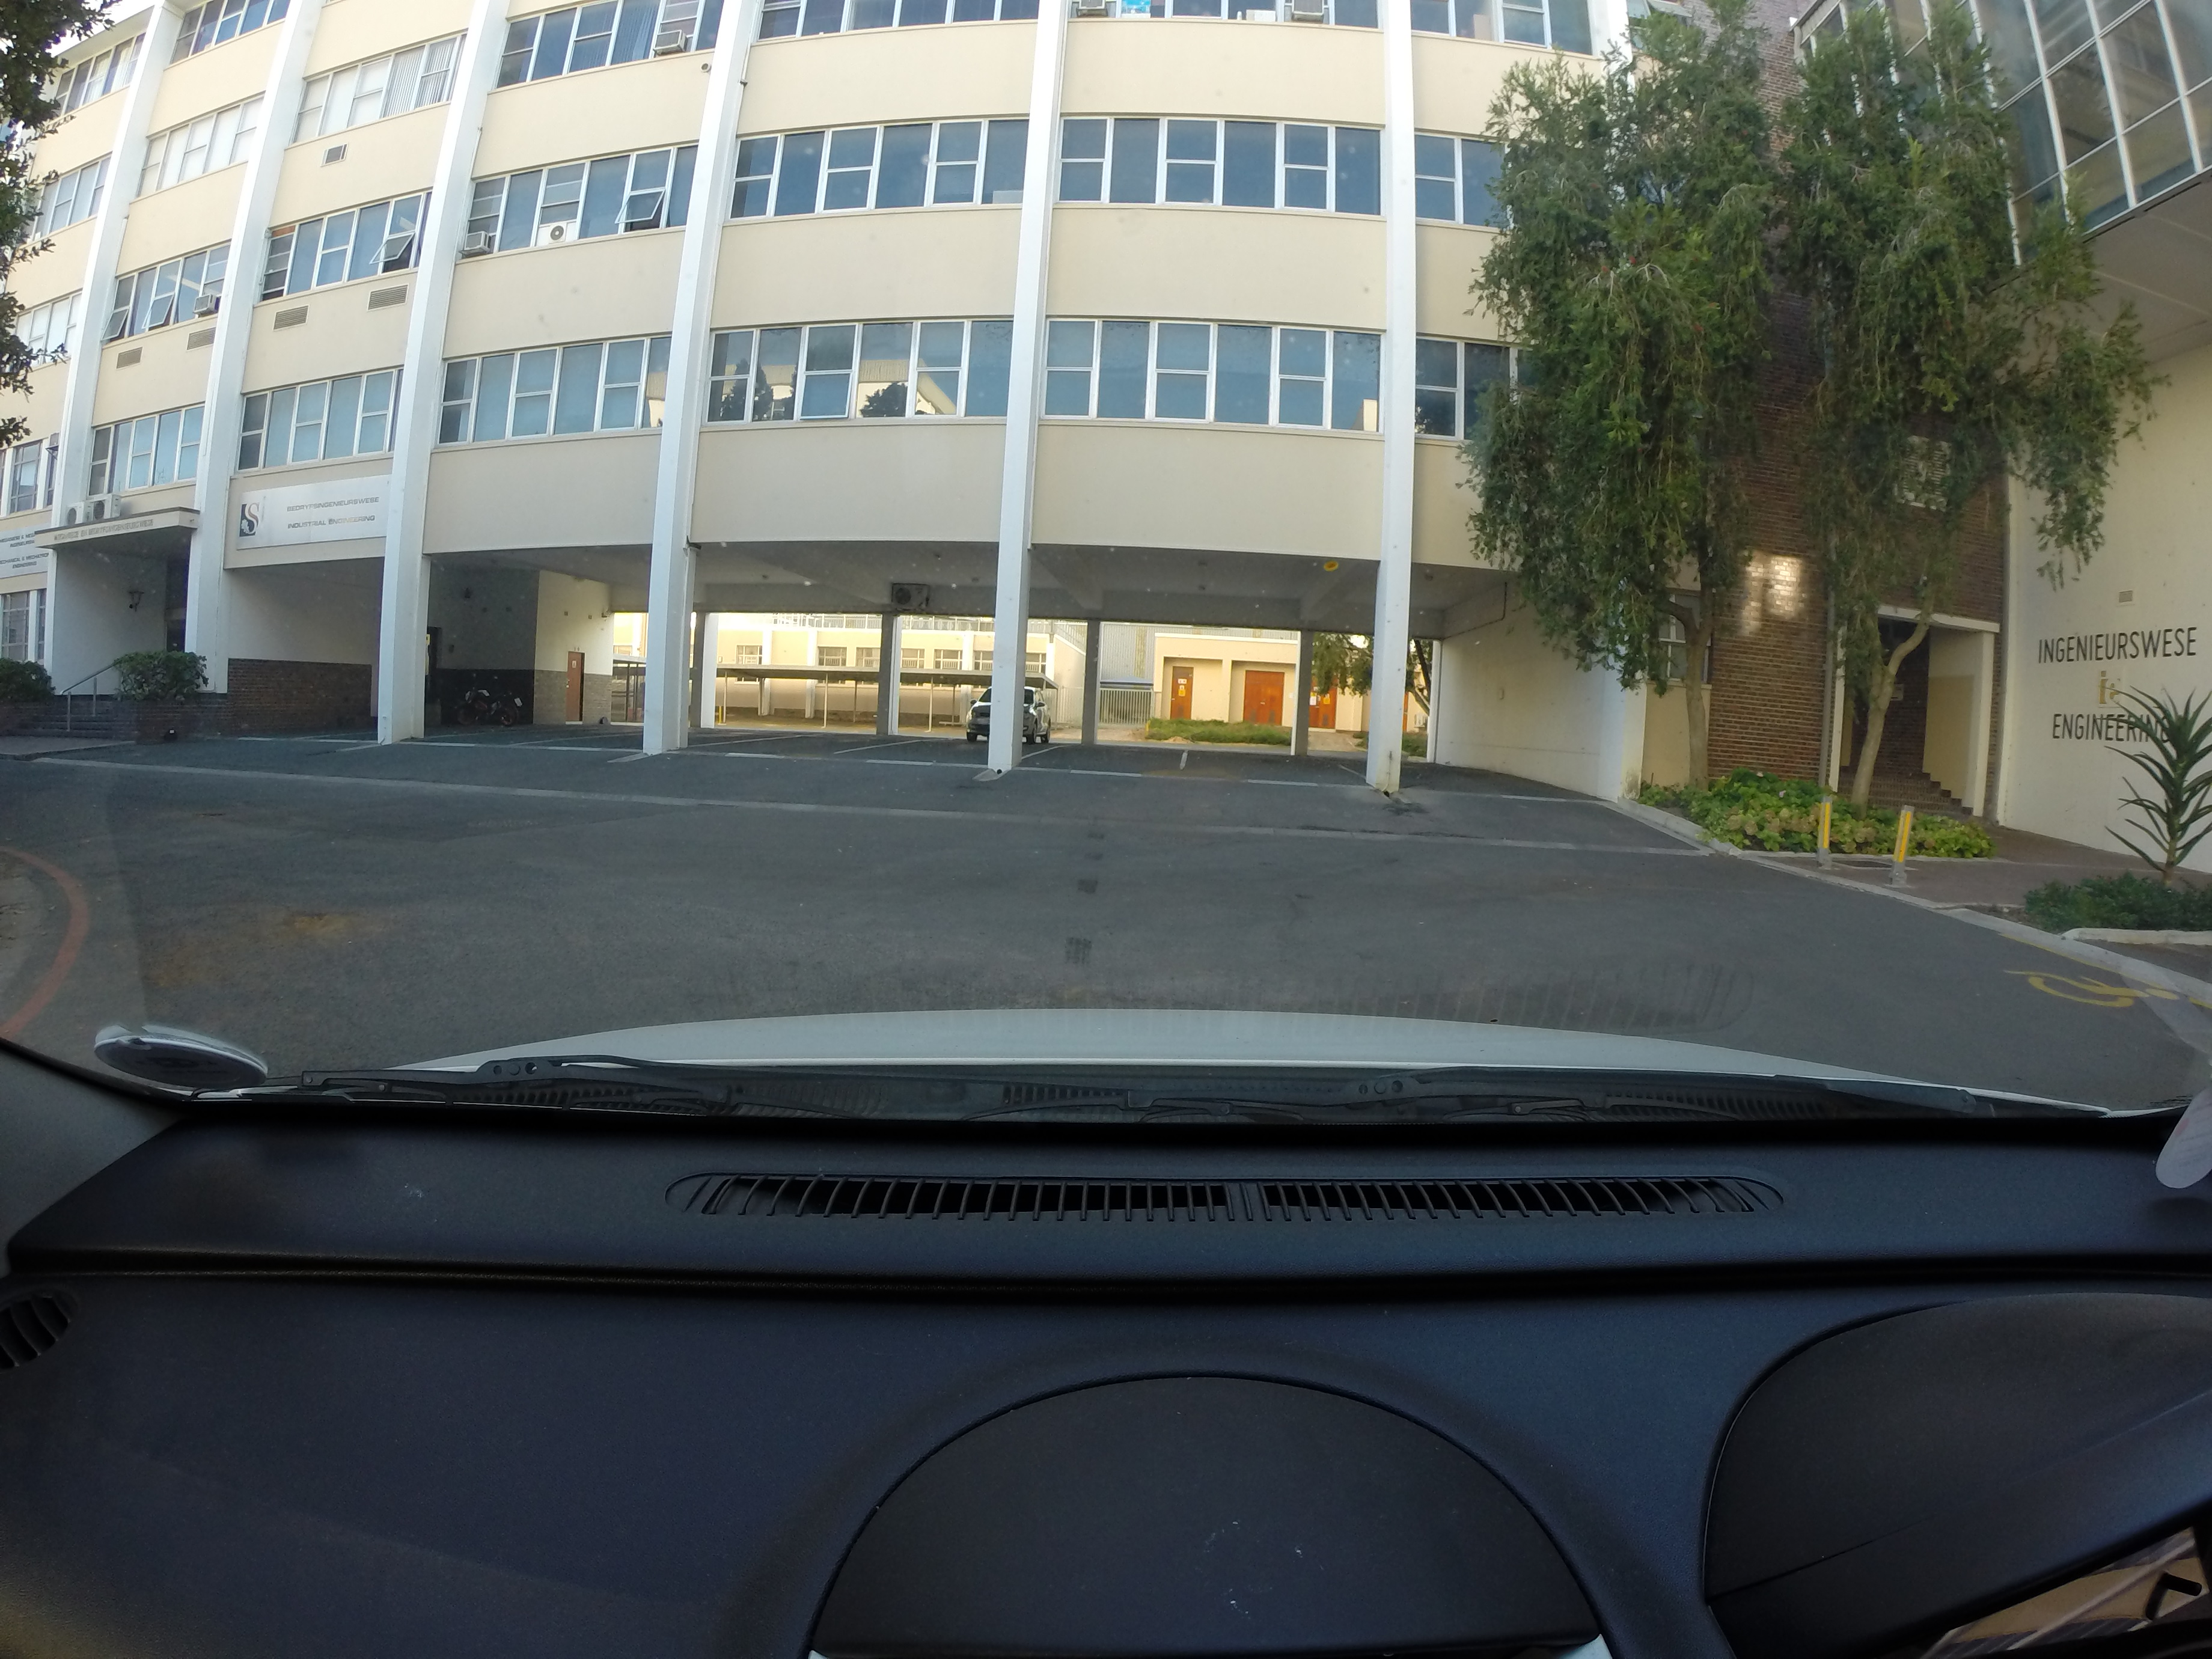pothole: (240, 899, 418, 946)
